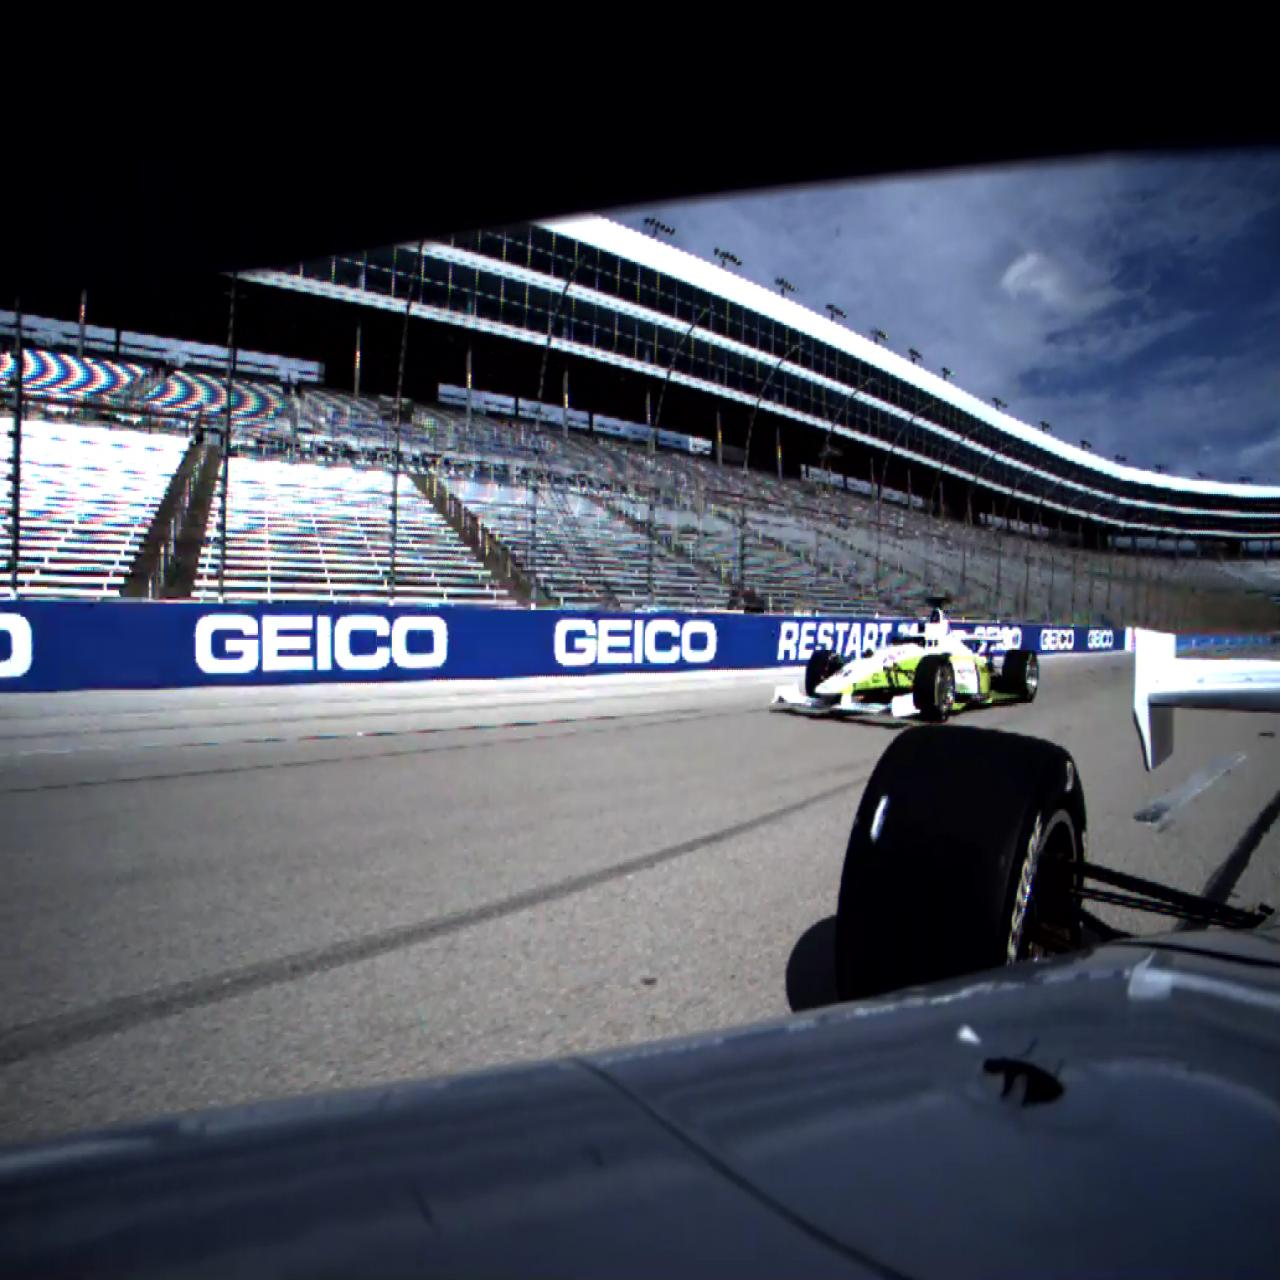AV: (771, 594, 1040, 723)
Wheel: (839, 724, 1085, 999), (914, 654, 955, 723), (1003, 649, 1039, 703), (805, 649, 843, 697)
